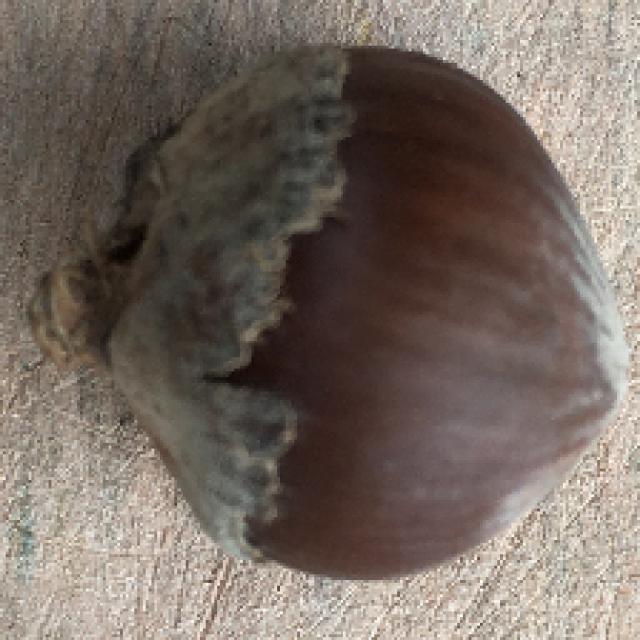DamagedHazelnut: (29, 53, 636, 574)
